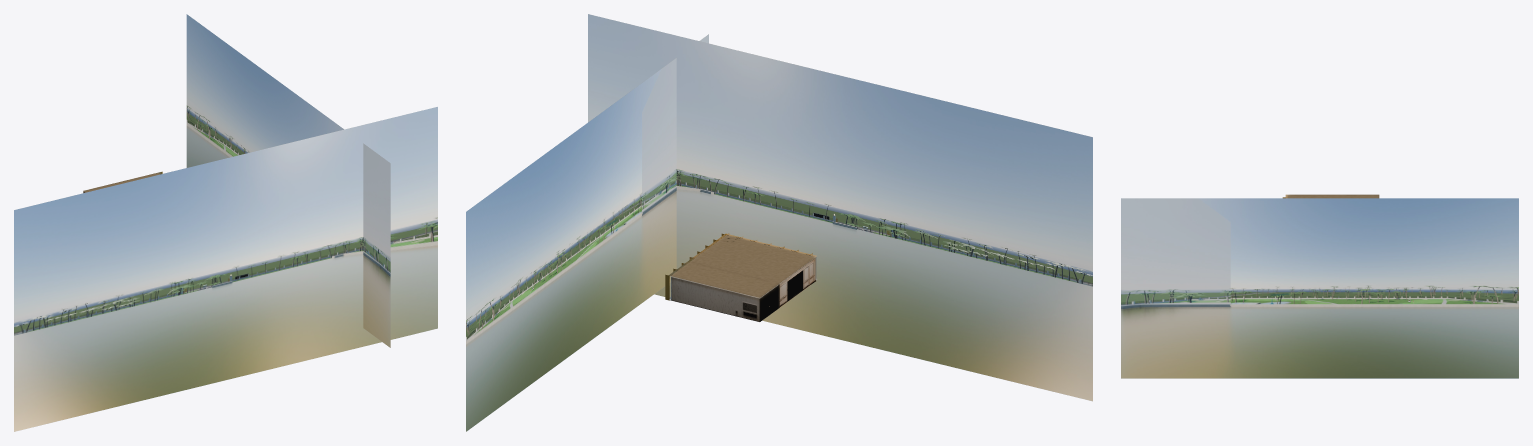
File: int_eko_r5.glb
3 views of the same model, side by side, from view 1: azimuth 30°, elevation 25°; view 2: azimuth 150°, elevation 25°; view 3: azimuth 270°, elevation 25° (orthographic). The views are drawn at different scales.
Visible parts, largest first — view 1: VIEW_front, VIEW_side; view 2: VIEW_front, VIEW_side, ROOM; view 3: VIEW_side, ROOM.
Boxes of the visible parts, x1,y1,x2,y2 form: VIEW_front: [14, 107, 437, 431]; VIEW_side: [186, 14, 390, 347]; VIEW_front: [588, 14, 1092, 401]; VIEW_side: [466, 34, 708, 431]; ROOM: [665, 233, 816, 321]; VIEW_side: [1121, 198, 1518, 378]; ROOM: [1282, 194, 1379, 198].
Bounding box in the file's own units: 72 × 36 × 60.
Materials: 4 (3 with a texture image).
